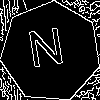N: (25, 27, 68, 78)
